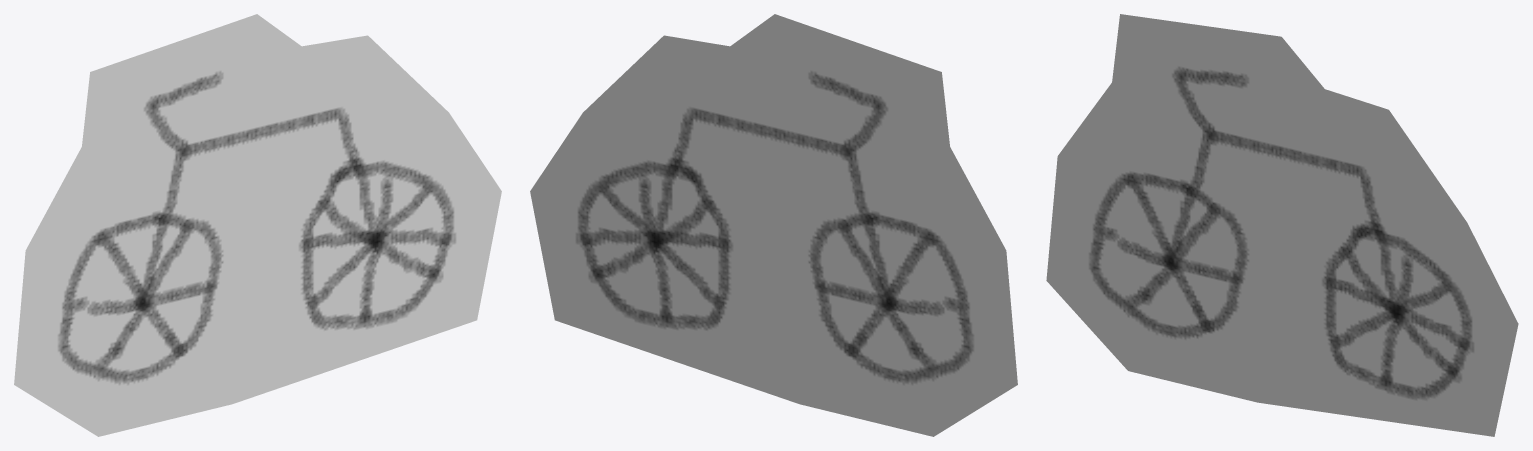
The model's file is Cykel.fbx.
3 views of the same model, side by side, from view 1: azimuth 30°, elevation 25°; view 2: azimuth 150°, elevation 25°; view 3: azimuth 330°, elevation 25° (orthographic). The views are drawn at different scales.
Parts seen in each view (by area): view 1: Plane.017; view 2: Plane.017; view 3: Plane.017.
Boxes of the visible parts, box(x1,y1,x2,y2) form: Plane.017: box(14, 14, 501, 436); Plane.017: box(530, 14, 1017, 436); Plane.017: box(1046, 14, 1518, 436).
Size of the model in its own units: 42.13 by 31.71 by 5.17e-06.
Materials: 1 (1 with a texture image).
